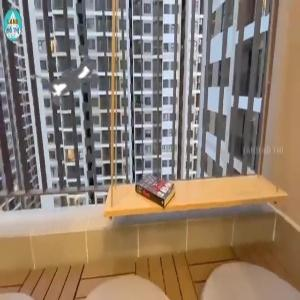drone: (4, 9, 149, 154)
